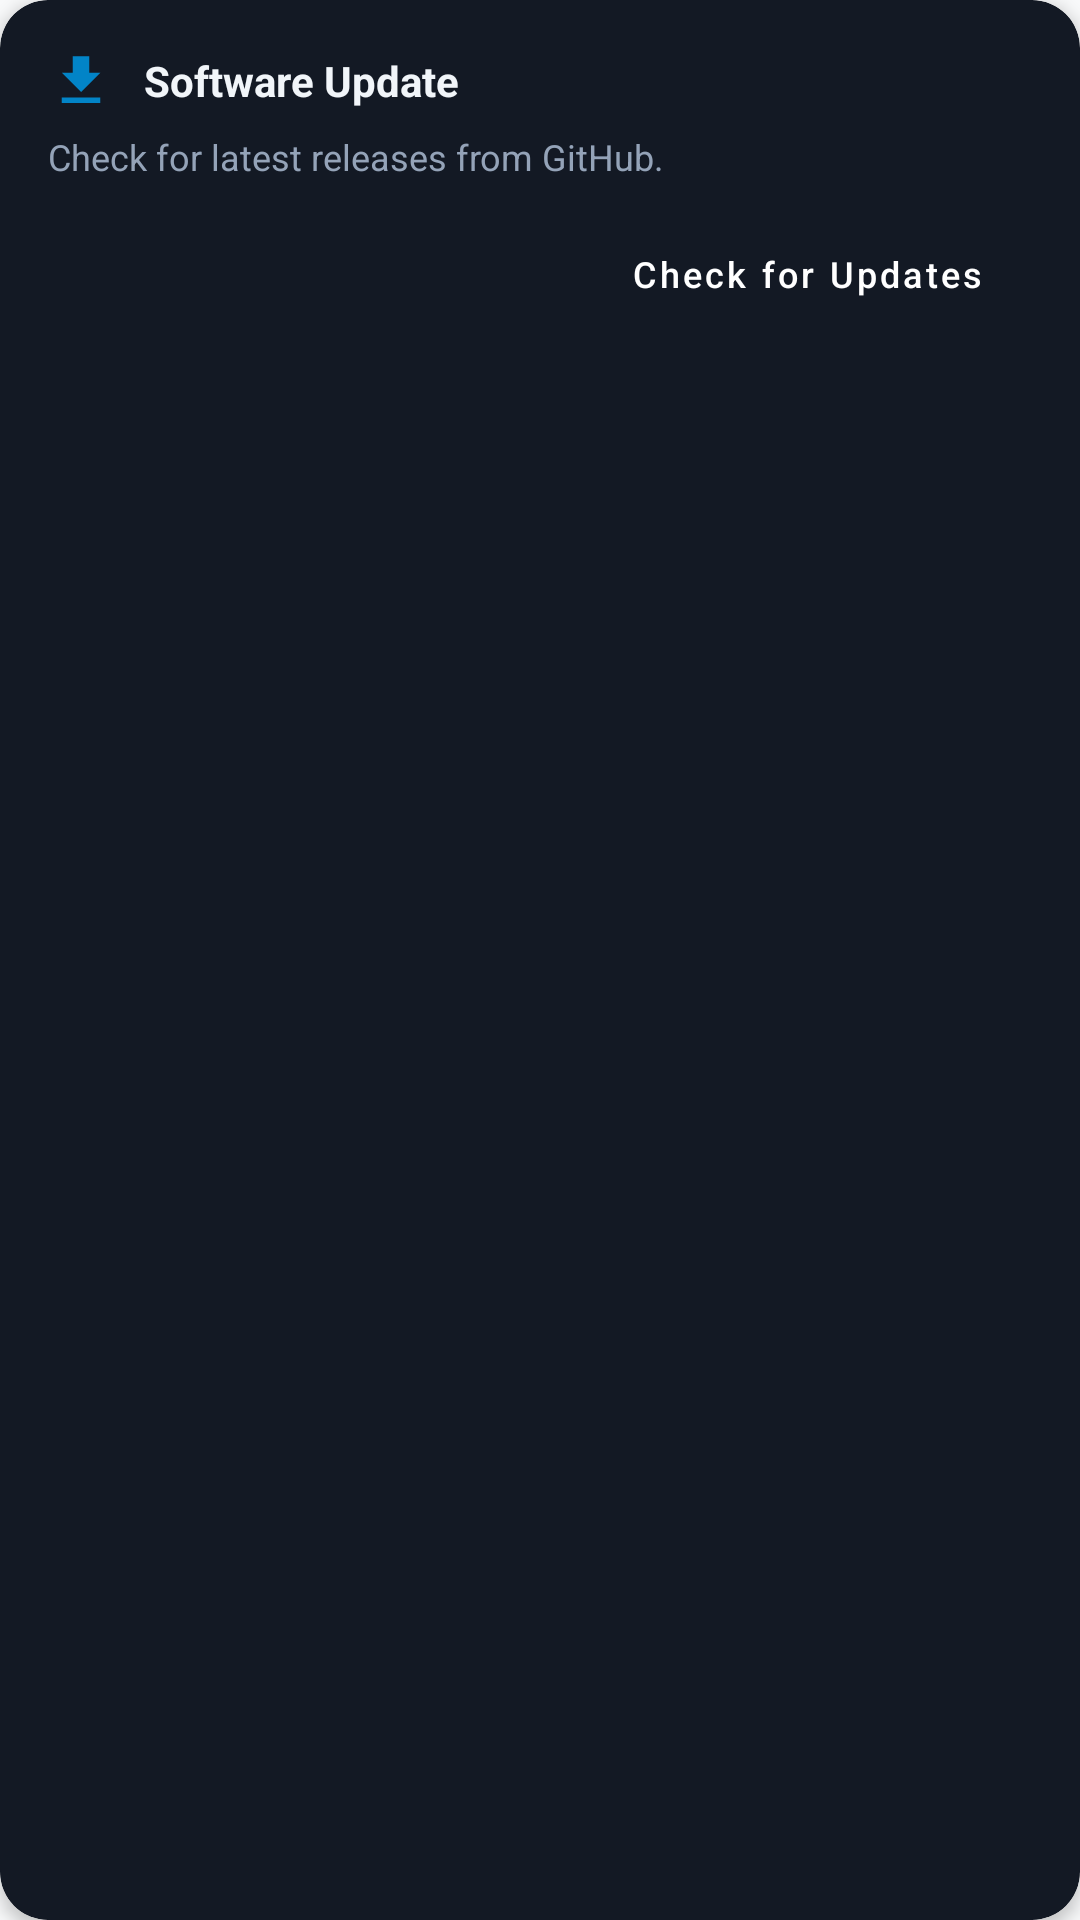

Point at icon controls on the screen. Image size 1080x1920, points as (x=x, y=y).
download: (x=81, y=79)
